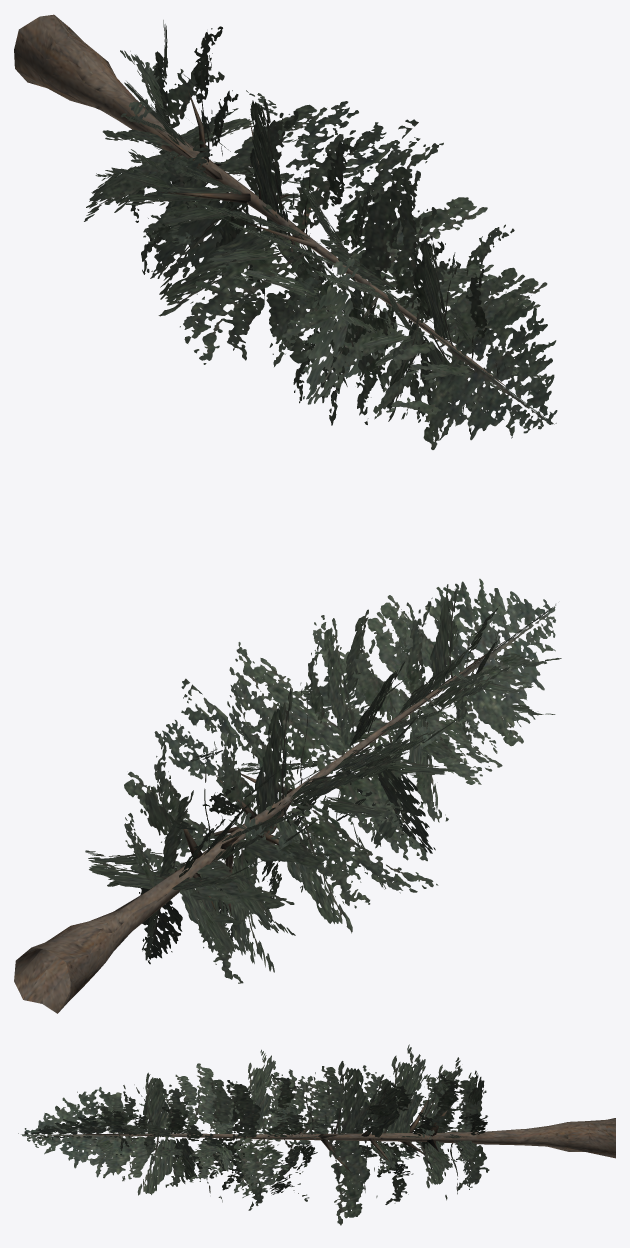
Rendered from tree_3d_03.obj.
The picture shows the model from 3 angles, top to bottom: view 1: azimuth 30°, elevation 25°; view 2: azimuth 150°, elevation 25°; view 3: azimuth 270°, elevation 25°; orthographic projection. The views are drawn at different scales.
Visible parts, largest first — view 1: tree_3d_03; view 2: tree_3d_03; view 3: tree_3d_03.
Part boxes in pixels (x1=…): tree_3d_03: x1=14, y1=14, x2=557, y2=449; tree_3d_03: x1=14, y1=578, x2=561, y2=1013; tree_3d_03: x1=18, y1=1044, x2=615, y2=1225.
Bounding box in the file's own units: 7.81 × 7.49 × 25.41.
Materials: 1 (1 with a texture image).
